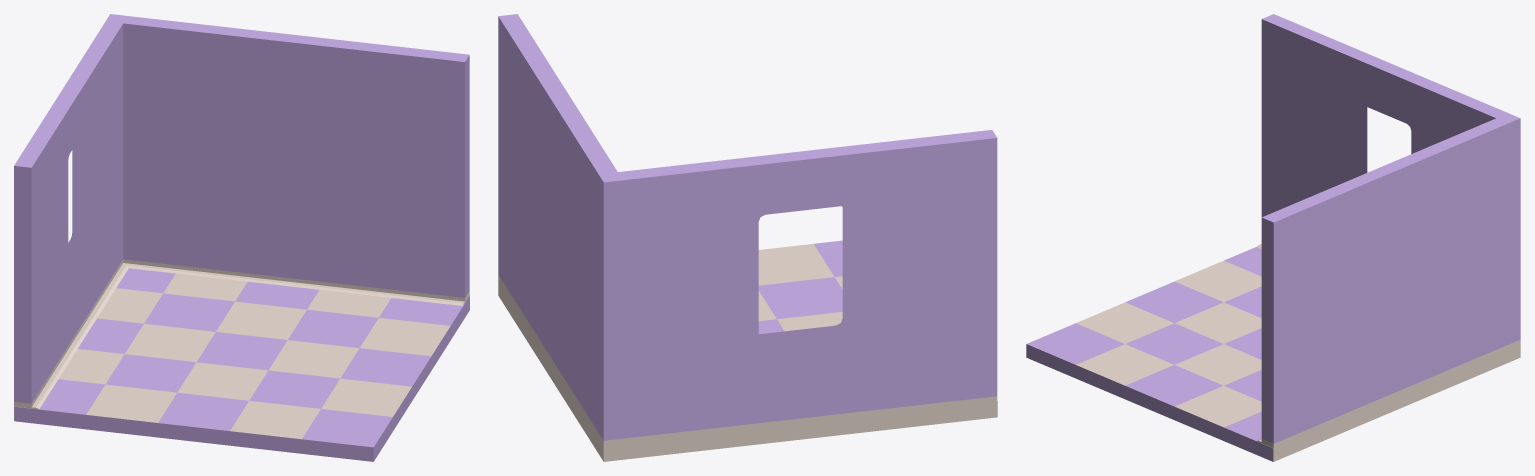
Rendered from office.glb.
3 views of the same model, side by side, from view 1: azimuth 30°, elevation 25°; view 2: azimuth 150°, elevation 25°; view 3: azimuth 270°, elevation 25° (orthographic). The views are drawn at different scales.
Parts seen in each view (by area): view 1: Room_1_Wall_1, Room_1_Floor_1; view 2: Room_1_Wall_1, Room_1_Floor_1; view 3: Room_1_Wall_1, Room_1_Floor_1.
Part boxes in pixels (x1,y1,x2,y2): Room_1_Wall_1: (14, 14, 469, 420); Room_1_Floor_1: (14, 268, 469, 461); Room_1_Wall_1: (498, 14, 997, 461); Room_1_Floor_1: (758, 240, 997, 416); Room_1_Wall_1: (1257, 14, 1520, 461); Room_1_Floor_1: (1026, 247, 1273, 461).
Bounding box in the file's own units: 7.07 × 3.78 × 7.08.
Materials: 1 (1 with a texture image).
